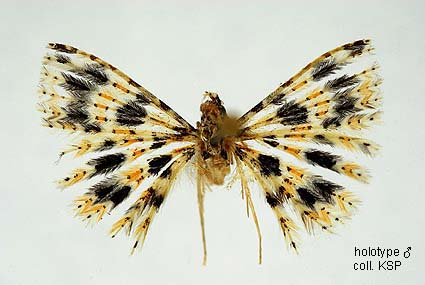Alucitidae: (35, 34, 387, 263)
moth: (37, 36, 389, 265)
